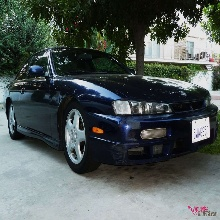no damage: (4, 46, 219, 174)
